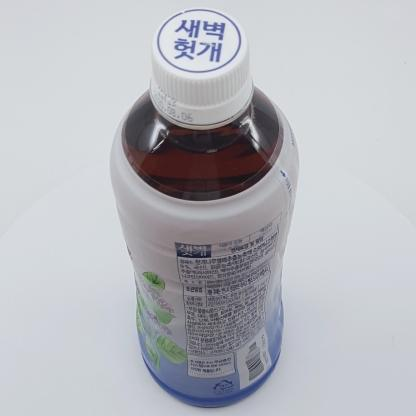---------520ML: (109, 7, 300, 407)
